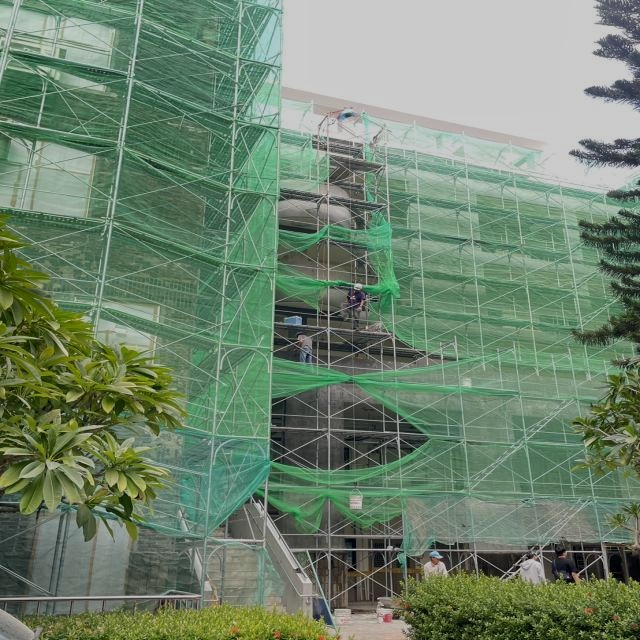Con_Casco: (354, 283, 363, 291)
Sin_Casco_Mascarrilla: (428, 551, 443, 562), (555, 547, 568, 558), (526, 551, 538, 561)
